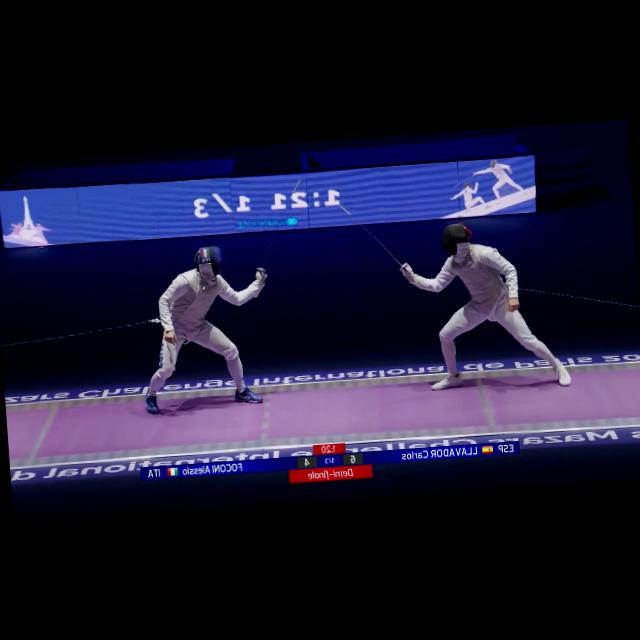blade: (243, 175, 312, 280), (332, 193, 412, 283)
